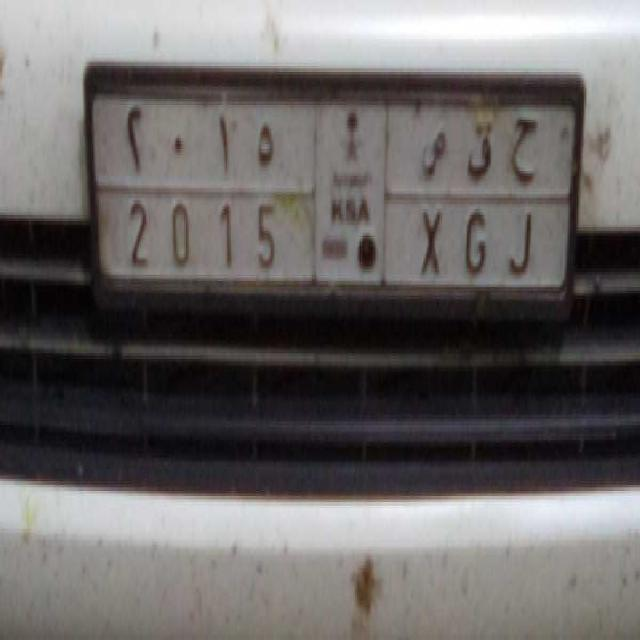license_plate: (104, 185, 559, 295)
